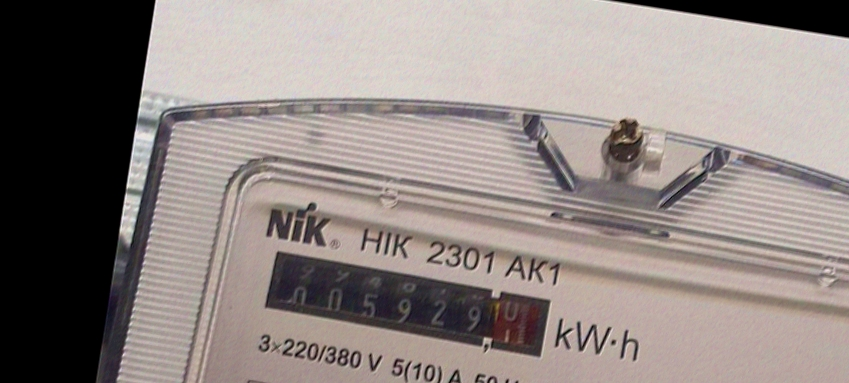0: (322, 285, 345, 315), (286, 281, 310, 307), (499, 299, 521, 325)
2: (425, 296, 449, 331)
5: (357, 290, 379, 320)
9: (389, 294, 415, 327), (461, 302, 484, 337), (295, 262, 316, 282)
screen: (255, 245, 558, 369)
